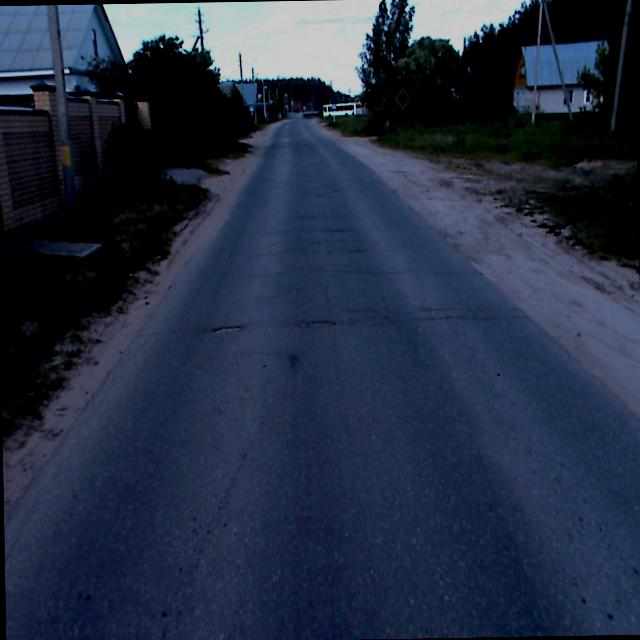road: (3, 117, 640, 640)
